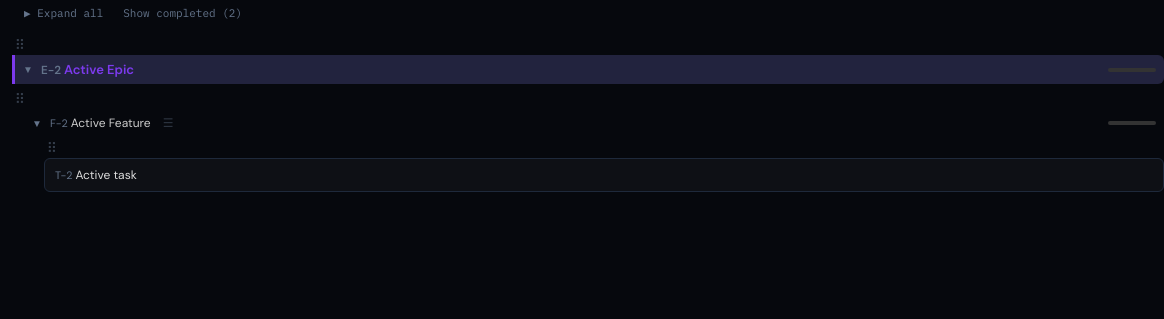
it: BacklogTree › sorts incomplete epics before completed ones when show completed is on
Click the button "Show completed (2)". click: (183, 13)
box: [119,4,246,22]
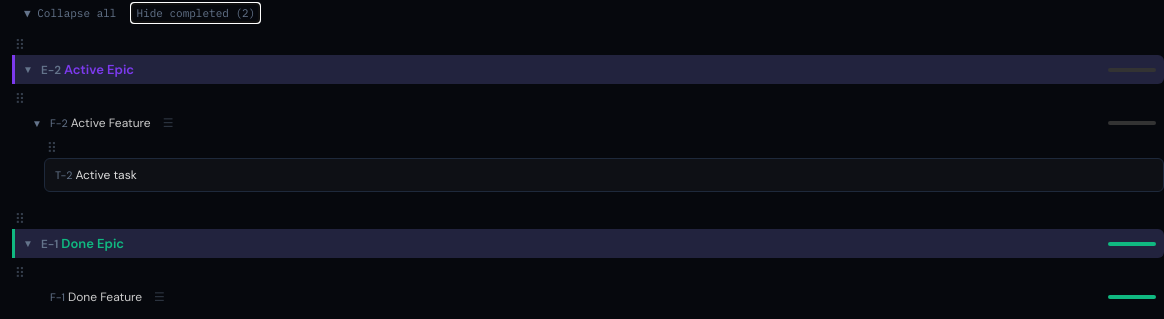
Expected: the text "Active Epic" is shown, [64,61,134,78]
Now the text "Done Epic" is shown, box [61,235,124,252]
